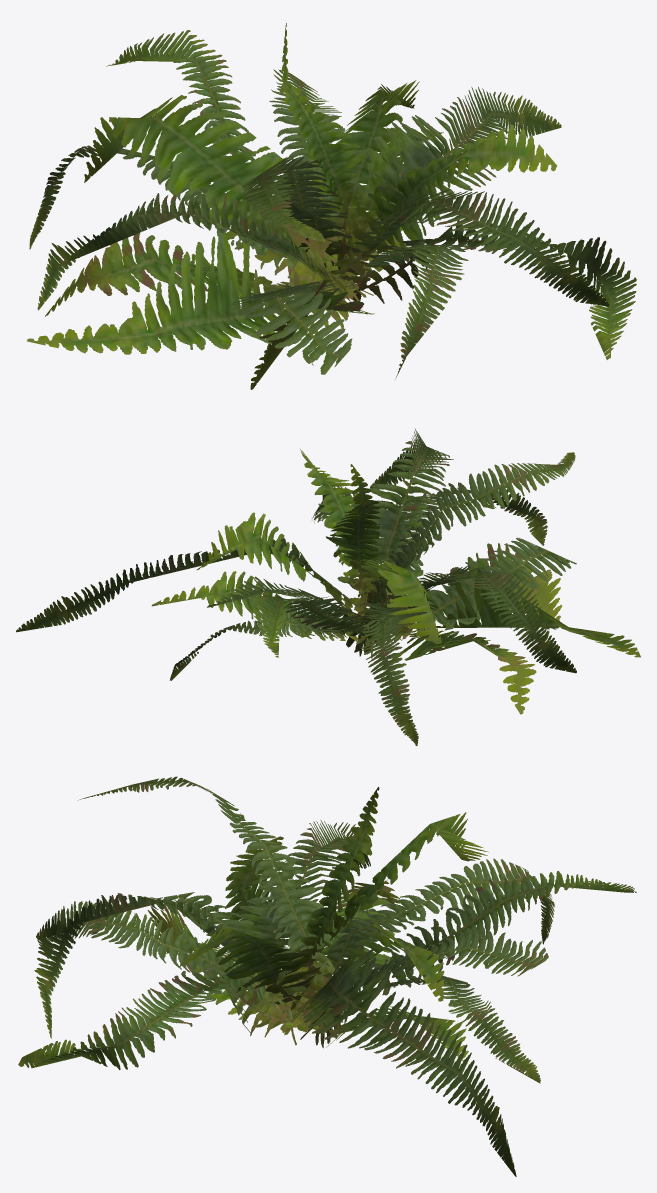
The picture shows the model from 3 angles, top to bottom: view 1: azimuth 30°, elevation 25°; view 2: azimuth 150°, elevation 25°; view 3: azimuth 270°, elevation 25°; orthographic projection. The views are drawn at different scales.
Visible parts, largest first — view 1: fern_02__c_lod1; view 2: fern_02__c_lod1; view 3: fern_02__c_lod1.
Boxes of the visible parts, x1,y1,x2,y2 form: fern_02__c_lod1: (27,23,636,389); fern_02__c_lod1: (16,428,640,745); fern_02__c_lod1: (18,776,636,1176).
Size of the model in its own units: 0.9054 by 0.3647 by 0.7788.
Materials: 1 (1 with a texture image).
